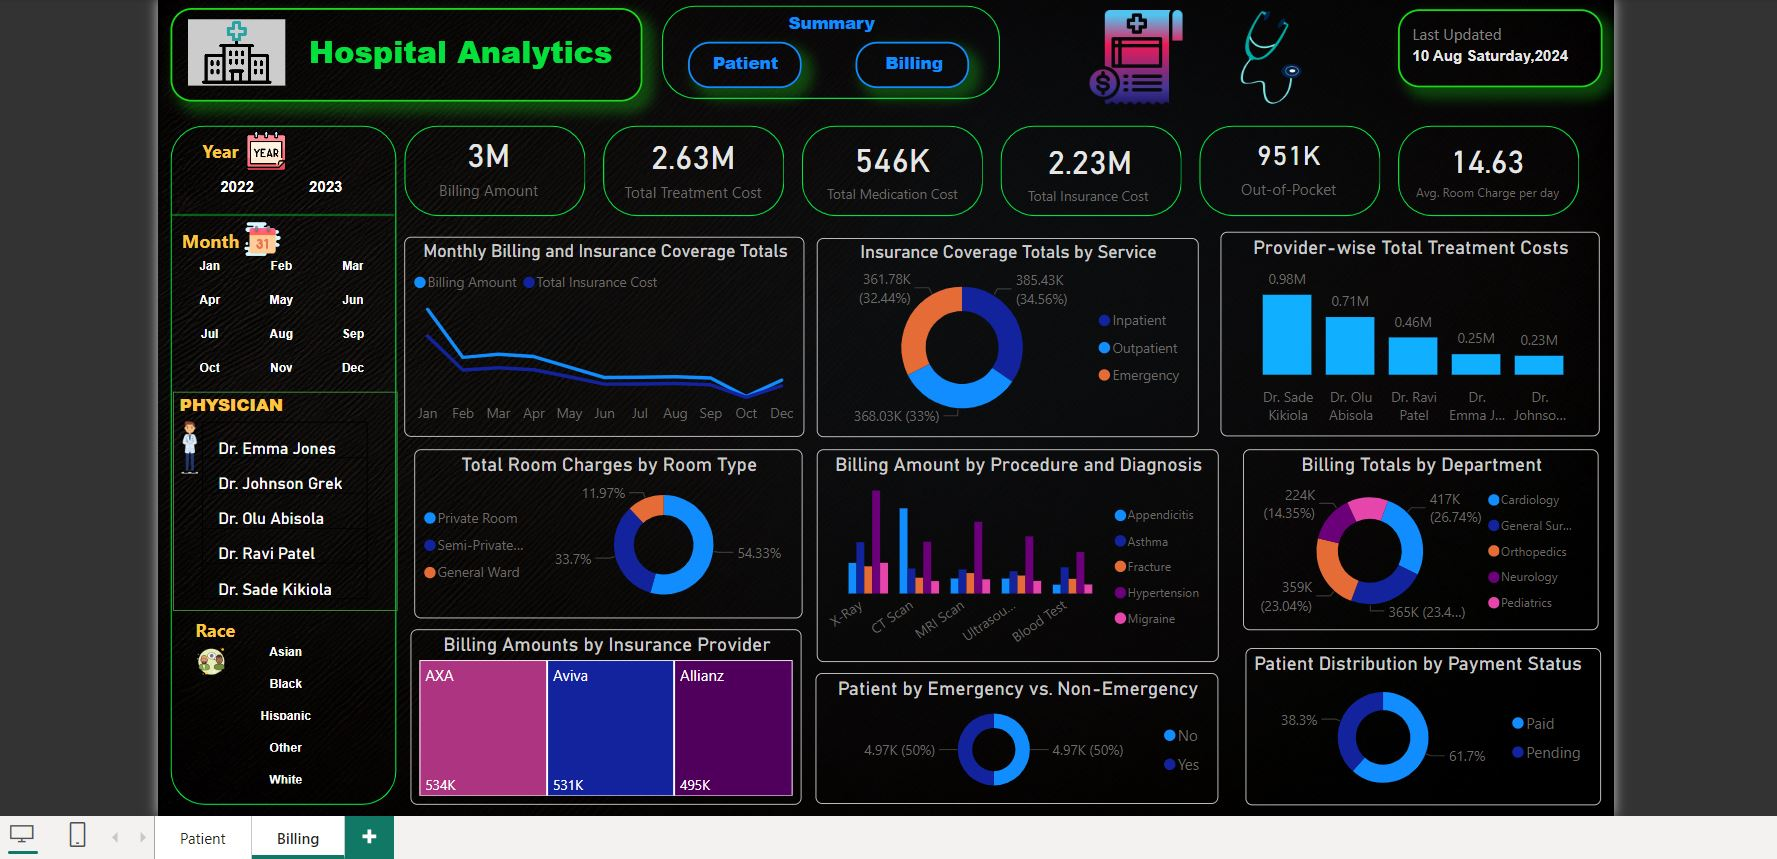

The page's visual inventory and layout, read from the dashboard file:
{"tool":"powerbi","page":{"name":"Billing","canvas":[1280,720],"ordinal":1},"visuals":[{"type":"textbox","box":[473.8,41.7,85.7,34.5],"z":0},{"type":"shape","title":"To","box":[216.7,112.1,159.5,79.8],"z":1000},{"type":"shape","box":[442.9,7.1,297.6,82.1],"z":2000},{"type":"donutChart","title":"Patient Distribution by Payment Status","fields":{"Y":["CountNonNull(visits.Patient ID)"],"Category":["visits.Payment Status"]},"box":[957.1,571.4,313.1,138.1],"z":3000},{"type":"textbox","box":[10.7,8.3,415.5,82.1],"z":4000},{"type":"actionButton","box":[26.2,19,85.7,58.3],"z":5000},{"type":"textbox","box":[1090.5,9.5,179.8,69],"z":6000},{"type":"actionButton","title":"Billing","box":[613.1,38.1,100,40.5],"z":7000},{"type":"actionButton","title":"Patient","box":[466.7,38.1,100,40.5],"z":8000},{"type":"shape","box":[10.7,111.9,198.8,597.6],"z":9000},{"type":"card","title":"Total Treatment Cost","fields":{"Values":["Sum(visits.Treatment Cost)"]},"box":[402.4,103.6,136.9,88.1],"z":10000},{"type":"shape","title":"To","box":[391.4,112,159.5,79.8],"z":11000},{"type":"card","title":"Total Medication Cost","fields":{"Values":["Sum(visits.Medication Cost)"]},"box":[579.8,103.6,133.3,91.7],"z":12000},{"type":"advancedSlicerVisual","title":"PHYSICIAN","fields":{"Values":["providers.Provider Name"]},"box":[13.1,346.4,197.6,192.9],"z":13000},{"type":"shape","title":"To","box":[566.2,112,159.5,79.8],"z":14000},{"type":"shape","title":"To","box":[741,112,159.5,79.8],"z":15000},{"type":"card","title":"Total Insurance Cost ","fields":{"Values":["Sum(visits.Insurance Coverage)"]},"box":[759.5,104.8,120.2,92.9],"z":16000},{"type":"card","title":"Avg. Room Charge per day","fields":{"Values":["Avg(visits.Room Charges(daily rate))"]},"box":[1100,103.6,140.5,91.7],"z":17000},{"type":"card","title":"Billing Amount","fields":{"Values":["visits.Billing Amount"]},"box":[231,100,120.2,91.7],"z":18000},{"type":"card","title":"OOP","fields":{"Values":["visits.OOP"]},"box":[934.5,101.2,120.2,91.7],"z":19000},{"type":"donutChart","title":"Billing Totals by Department","fields":{"Y":["visits.Billing Amount"],"Category":["departments.Department"]},"box":[954.8,396.4,313.1,159.5],"z":20000},{"type":"columnChart","title":"Provider-wise Total Treatment Costs","fields":{"Category":["providers.Provider Name"],"Y":["Sum(visits.Treatment Cost)"]},"box":[934.5,206,333.3,179.8],"z":21000},{"type":"lineChart","title":"Monthly Billing and Insurance Coverage Totals","fields":{"Category":["Table.Month"],"Y":["visits.Billing Amount","Sum(visits.Insurance Coverage)"]},"box":[216.7,209.5,352.4,176.2],"z":22000},{"type":"advancedSlicerVisual","fields":{"Values":["Table.Month"]},"box":[10.7,191.7,195.2,166.7],"z":23000},{"type":"textbox","box":[8.3,197.6,75,33.3],"z":24000},{"type":"donutChart","title":"Total Room Charges by Room Type","fields":{"Category":["visits.Room Type"],"Y":["Sum(visits.Room Charges(daily rate))"]},"box":[225,396.4,341.7,148.8],"z":25000},{"type":"donutChart","title":"Insurance Coverage Totals by Service ","fields":{"Y":["Sum(visits.Insurance Coverage)"],"Category":["visits.Service Type"]},"box":[579.8,210.7,335.7,175],"z":26000},{"type":"clusteredColumnChart","fields":{"Category":["procedures.Procedure"],"Y":["visits.Billing Amount"],"Series":["diagnoses.Diagnosis"]},"box":[579.8,396.4,353.6,186.9],"z":27000},{"type":"advancedSlicerVisual","fields":{"Values":["patients.Race"]},"box":[15.5,531,194,189.3],"z":28000},{"type":"textbox","box":[15,540,70,31.2],"z":29000},{"type":"image","box":[26.2,556,40.5,54.8],"z":30000},{"type":"image","box":[70.2,192.9,42.9,42],"z":31000},{"type":"image","box":[0,364.3,56,63.1],"z":32000},{"type":"image","box":[915.5,7.1,126.2,91.7],"z":33000},{"type":"shape","title":"To","box":[915.7,112,159.5,79.8],"z":34000},{"type":"shape","title":"To","box":[1090.5,112,159.5,79.8],"z":35000},{"type":"donutChart","title":"Patient  by Emergency vs. Non-Emergency","fields":{"Category":["visits.Emergency Visit"],"Y":["CountNonNull(patients.Patient ID)"]},"box":[578.6,594.1,354.8,115.5],"z":36000},{"type":"treemap","title":"Billing Amounts by Insurance Provider","fields":{"Group":["insurance.Insurance Provider"],"Values":["visits.Billing Amount"]},"box":[222.6,554.8,344,154.8],"z":37000},{"type":"textbox","box":[18,118.8,75,31.2],"z":39000},{"type":"shape","box":[12,183,195.2,16.7],"z":41000},{"type":"textbox","box":[544.1,7.1,96.4,35.7],"z":42000},{"type":"advancedSlicerVisual","fields":{"Values":["Calendar.Year"]},"box":[28,119.5,163.8,78.8],"z":42001},{"type":"image","box":[70.2,111.9,48.8,45.2],"z":42002},{"type":"image","box":[807.1,0,108.3,104.8],"z":42003}]}

Visuals, with their boxes on the page's 1280x720 design canvas (x1, y1, x2, y2). These are canvas units, not pixel positions in the 1777x859 screenshot, which may show the page scaled, cropped or inside an application window:
textbox: bbox(474, 42, 560, 76)
"To" shape: bbox(217, 112, 376, 192)
shape: bbox(443, 7, 740, 89)
"Patient Distribution by Payment Status" donutChart: bbox(957, 571, 1270, 710)
textbox: bbox(11, 8, 426, 90)
actionButton: bbox(26, 19, 112, 77)
textbox: bbox(1090, 10, 1270, 78)
"Billing" actionButton: bbox(613, 38, 713, 79)
"Patient" actionButton: bbox(467, 38, 567, 79)
shape: bbox(11, 112, 210, 710)
"Total Treatment Cost" card: bbox(402, 104, 539, 192)
"To" shape: bbox(391, 112, 551, 192)
"Total Medication Cost" card: bbox(580, 104, 713, 195)
"PHYSICIAN" advancedSlicerVisual: bbox(13, 346, 211, 539)
"To" shape: bbox(566, 112, 726, 192)
"To" shape: bbox(741, 112, 900, 192)
"Total Insurance Cost " card: bbox(760, 105, 880, 198)
"Avg. Room Charge per day" card: bbox(1100, 104, 1240, 195)
"Billing Amount" card: bbox(231, 100, 351, 192)
"OOP" card: bbox(934, 101, 1055, 193)
"Billing Totals by Department" donutChart: bbox(955, 396, 1268, 556)
"Provider-wise Total Treatment Costs" columnChart: bbox(934, 206, 1268, 386)
"Monthly Billing and Insurance Coverage Totals" lineChart: bbox(217, 210, 569, 386)
advancedSlicerVisual - Table.Month: bbox(11, 192, 206, 358)
textbox: bbox(8, 198, 83, 231)
"Total Room Charges by Room Type" donutChart: bbox(225, 396, 567, 545)
"Insurance Coverage Totals by Service " donutChart: bbox(580, 211, 916, 386)
clusteredColumnChart - procedures.Procedure x visits.Billing Amount: bbox(580, 396, 933, 583)
advancedSlicerVisual - patients.Race: bbox(16, 531, 210, 720)
textbox: bbox(15, 540, 85, 571)
image: bbox(26, 556, 67, 611)
image: bbox(70, 193, 113, 235)
image: bbox(0, 364, 56, 427)
image: bbox(916, 7, 1042, 99)
"To" shape: bbox(916, 112, 1075, 192)
"To" shape: bbox(1090, 112, 1250, 192)
"Patient  by Emergency vs. Non-Emergency" donutChart: bbox(579, 594, 933, 710)
"Billing Amounts by Insurance Provider" treemap: bbox(223, 555, 567, 710)
textbox: bbox(18, 119, 93, 150)
shape: bbox(12, 183, 207, 200)
textbox: bbox(544, 7, 640, 43)
advancedSlicerVisual - Calendar.Year: bbox(28, 120, 192, 198)
image: bbox(70, 112, 119, 157)
image: bbox(807, 0, 915, 105)
